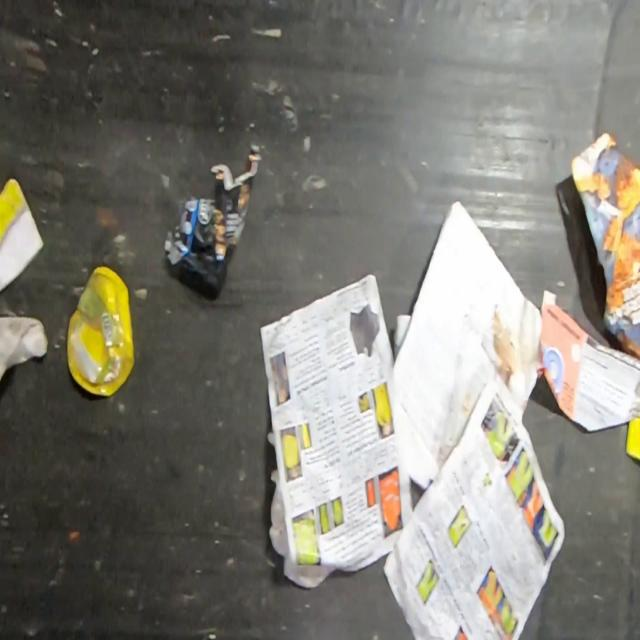cardboard: (0, 176, 45, 291)
rigid_plastic: (65, 262, 136, 398)
